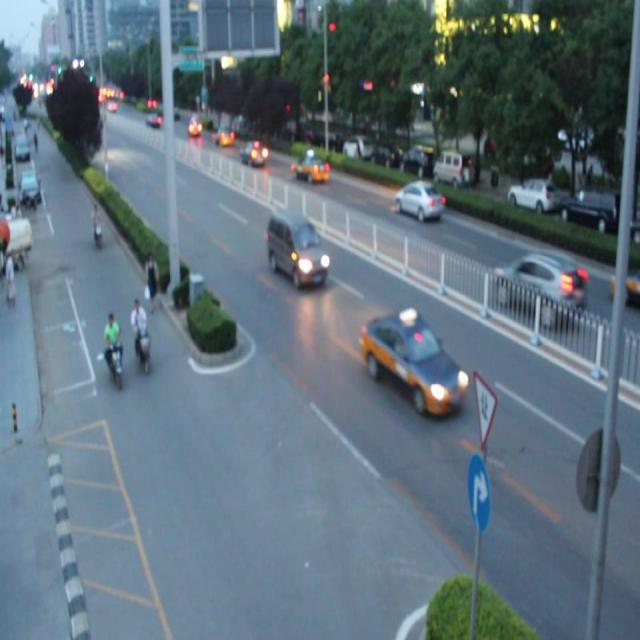car: (360, 308, 465, 416), (489, 249, 583, 327), (394, 179, 443, 220), (610, 252, 640, 312), (290, 153, 328, 184), (241, 139, 267, 167), (211, 123, 233, 145), (187, 114, 200, 135)
truck: (265, 207, 327, 288)
